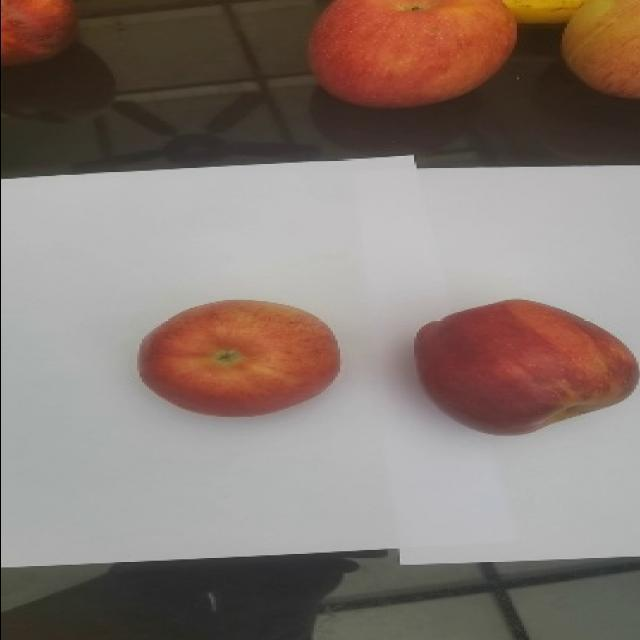Apple: (412, 297, 639, 436), (137, 298, 340, 417), (307, 0, 517, 109), (560, 0, 639, 99), (0, 0, 78, 68)
